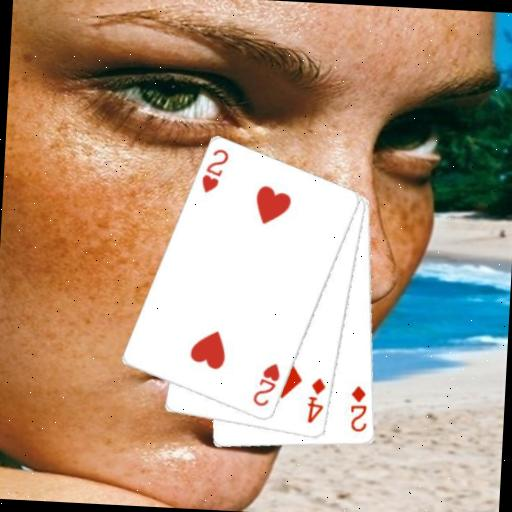2D: (346, 383, 370, 435)
2H: (198, 145, 231, 197), (250, 359, 283, 410)
4D: (303, 375, 328, 427)
